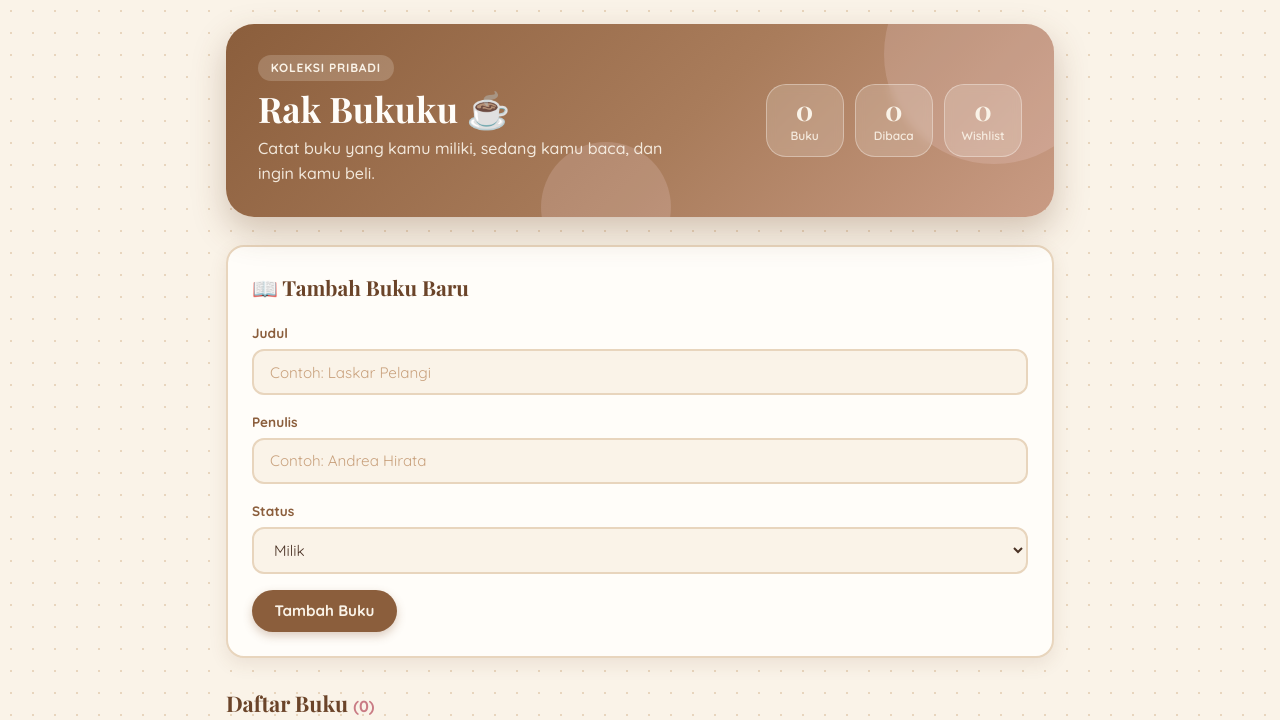
Halaman Home (integrasi) › menampilkan toast setelah buku ditambahkan
Type "Buku Toast" into the field labelled "Judul" at x=640, y=372, box [252, 349, 1028, 395]
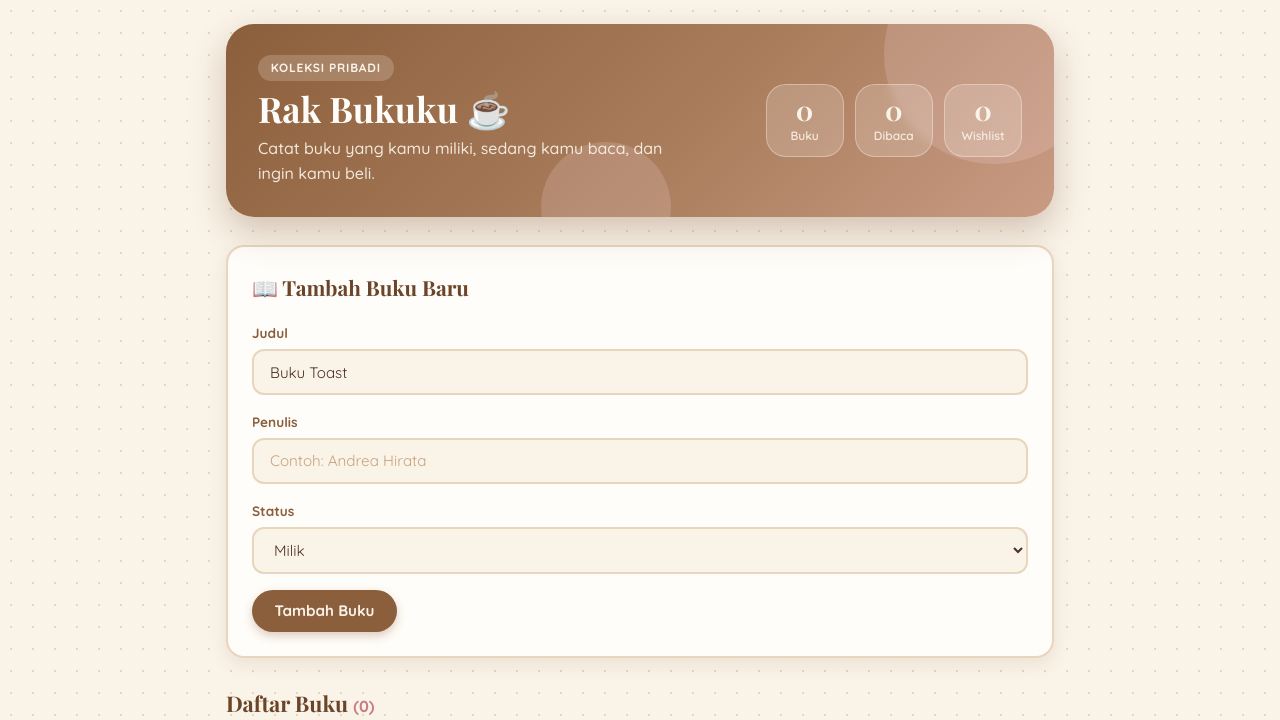
Type "Penulis D" into the field labelled "Penulis" at x=640, y=461, box [252, 438, 1028, 484]
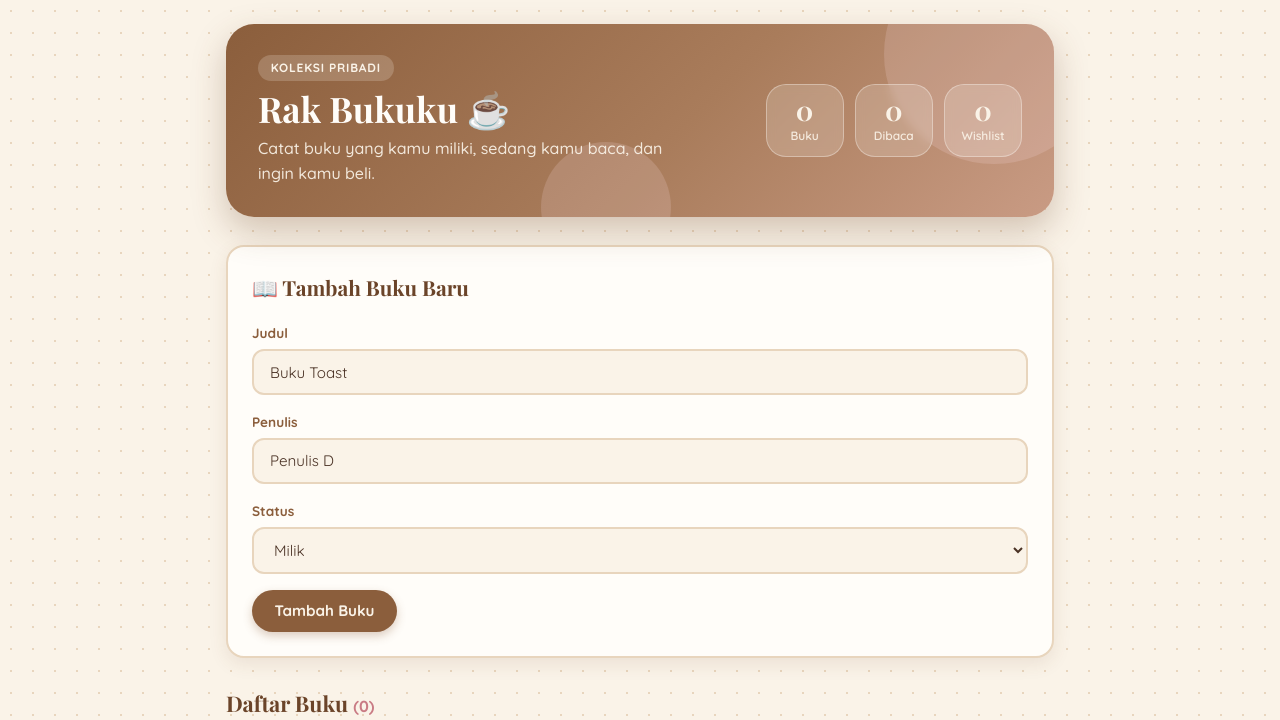
Select "Milik" in the dropdown labelled "Status" at x=640, y=550, box [252, 527, 1028, 574]
Click the button "Tambah Buku" at x=324, y=611, box [252, 590, 397, 632]
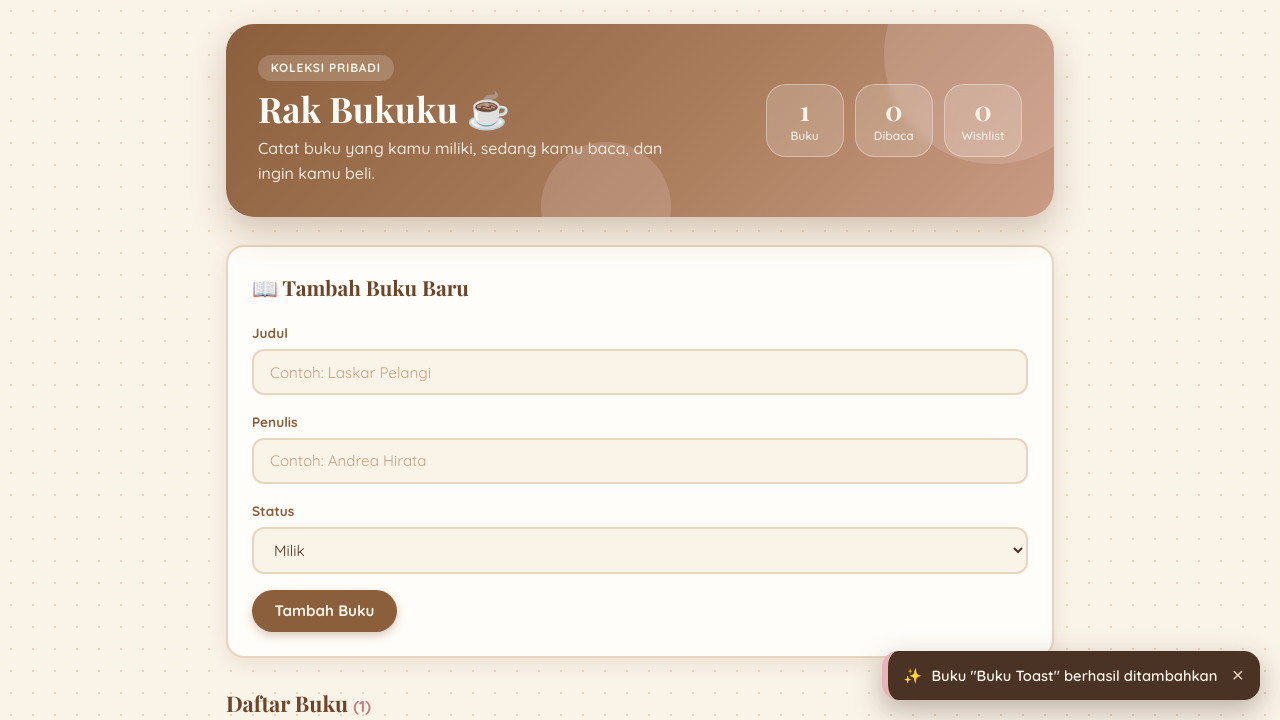
Check: the message shows "Buku Toast", box [932, 666, 1218, 685]
